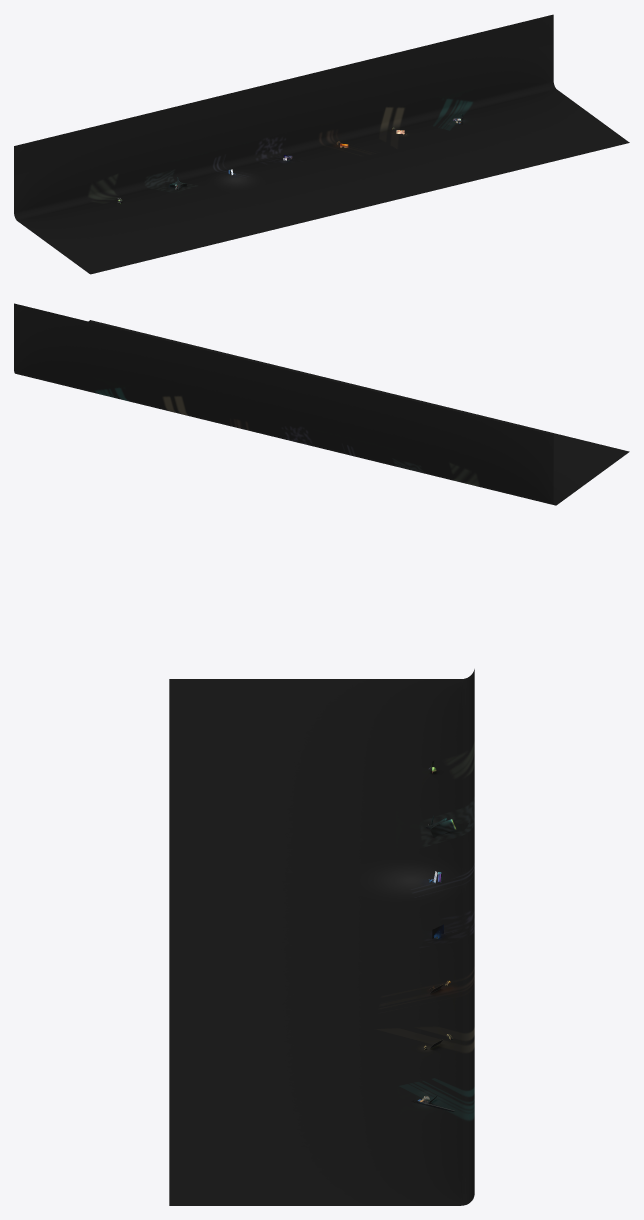
The model's file is bakedfinal16.glb.
3 views of the same model, one above another, from view 1: azimuth 30°, elevation 25°; view 2: azimuth 150°, elevation 25°; view 3: azimuth 270°, elevation 25° (orthographic). The views are drawn at different scales.
Parts seen in each view (by area): view 1: BG; view 2: BG; view 3: BG.
Part boxes in pixels (<box>): BG: <box>14,14,629,274</box>; BG: <box>14,303,629,505</box>; BG: <box>169,669,474,1205</box>.
Size of the model in its own units: 192 by 26.17 by 46.96.
Materials: 45 (45 with a texture image).
